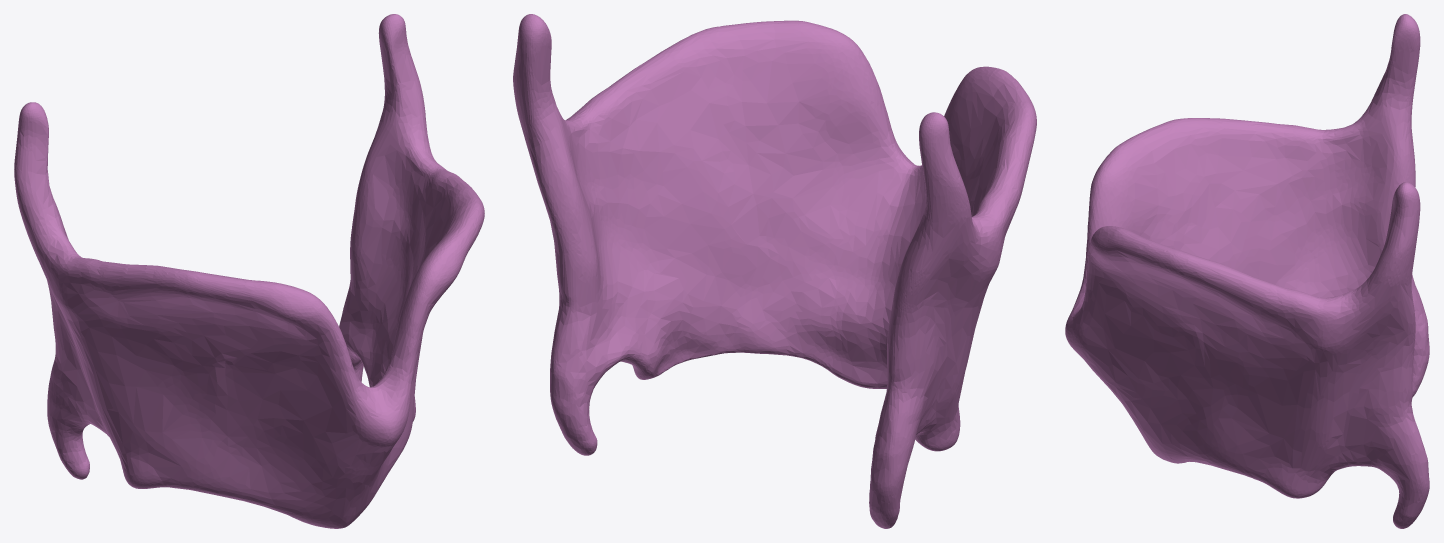
Rendered from thyroid.glb.
3 views of the same model, side by side, from view 1: azimuth 30°, elevation 25°; view 2: azimuth 150°, elevation 25°; view 3: azimuth 270°, elevation 25° (orthographic). The views are drawn at different scales.
Parts seen in each view (by area): view 1: thyroid; view 2: thyroid; view 3: thyroid.
Part boxes in pixels (x1,y1,x2,y2): thyroid: (14,14,484,528); thyroid: (513,14,1036,528); thyroid: (1065,14,1429,528).
Bounding box in the file's own units: 38.59 × 35.26 × 31.73.
